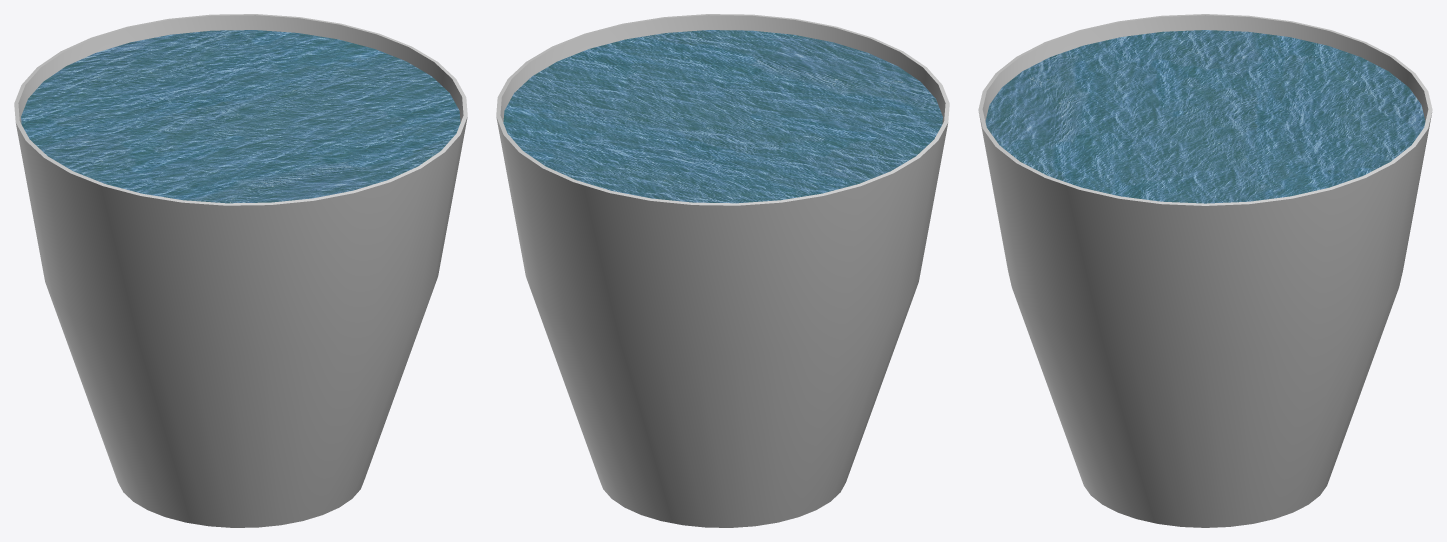
File: bucket_noHandle_water.fbx
The picture shows the model from 3 angles, left to right: view 1: azimuth 30°, elevation 25°; view 2: azimuth 150°, elevation 25°; view 3: azimuth 270°, elevation 25°; orthographic projection.
Visible parts, largest first — view 1: Circle; view 2: Circle; view 3: Circle.
Boxes of the visible parts, x1,y1,x2,y2 form: Circle: [14, 14, 467, 527]; Circle: [496, 14, 949, 527]; Circle: [978, 14, 1432, 527].
Bounding box in the file's own units: 211 × 188 × 211.
Materials: 2 (1 with a texture image).
